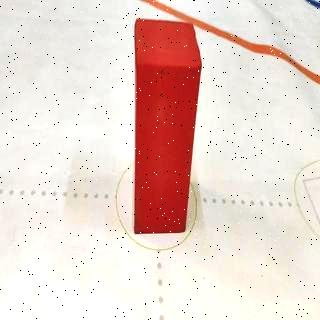redbox: (132, 19, 202, 232)
